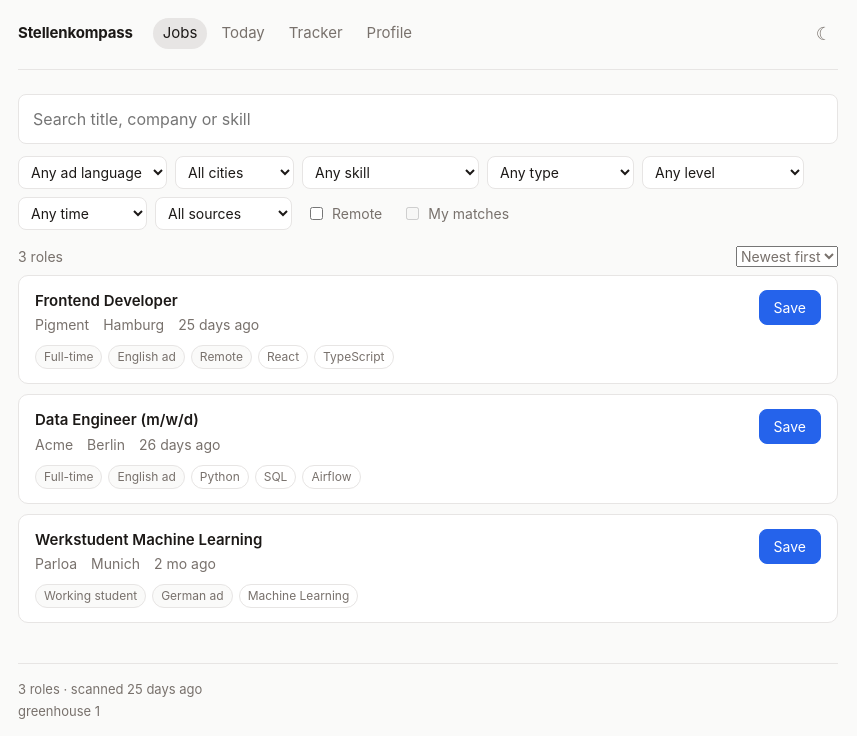
Test case: App › lists, searches and saves roles into the tracker
The width and height of the screenshot is (857, 736).
expect the text "3 roles" is shown: met, box [18,246,63,266]
expect the text "greenhouse 1" is shown: met, box [18,702,100,718]
Type "frontend" into the search field labelled "Search" at point(428, 118), box [18,94,838,144]
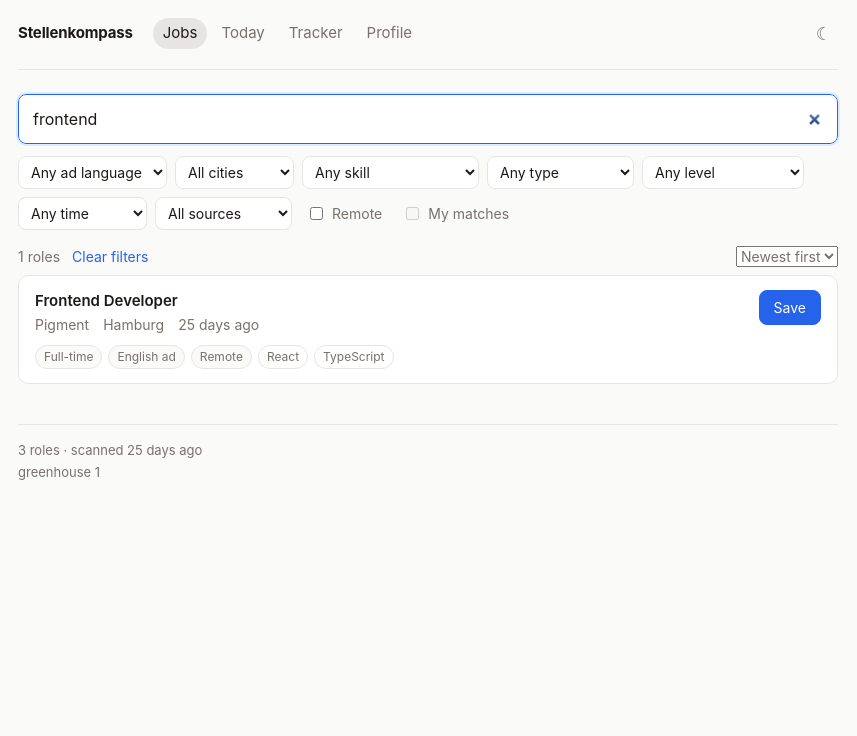
expect the text "1 roles" is shown: met, box [18,246,148,266]
Click the button with aria-label "Save Frontend Developer" at point(790, 307), box [759,290,821,324]
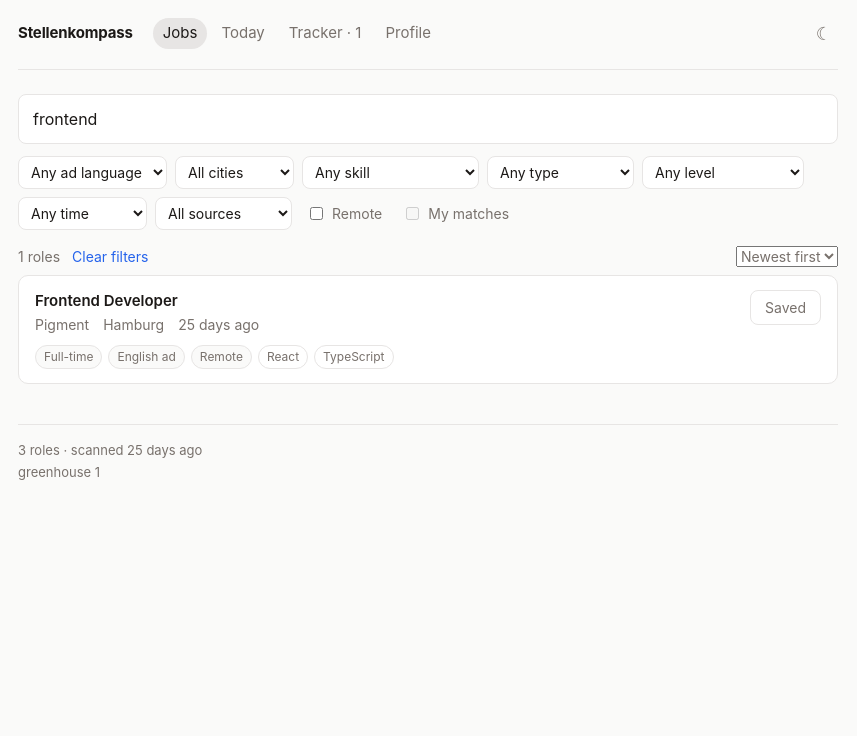
expect the button with aria-label "In tracker: Saved" is disabled: met, box [750,290,821,324]
Click the link "Tracker · 1" at point(325, 32), box [289,23,361,42]
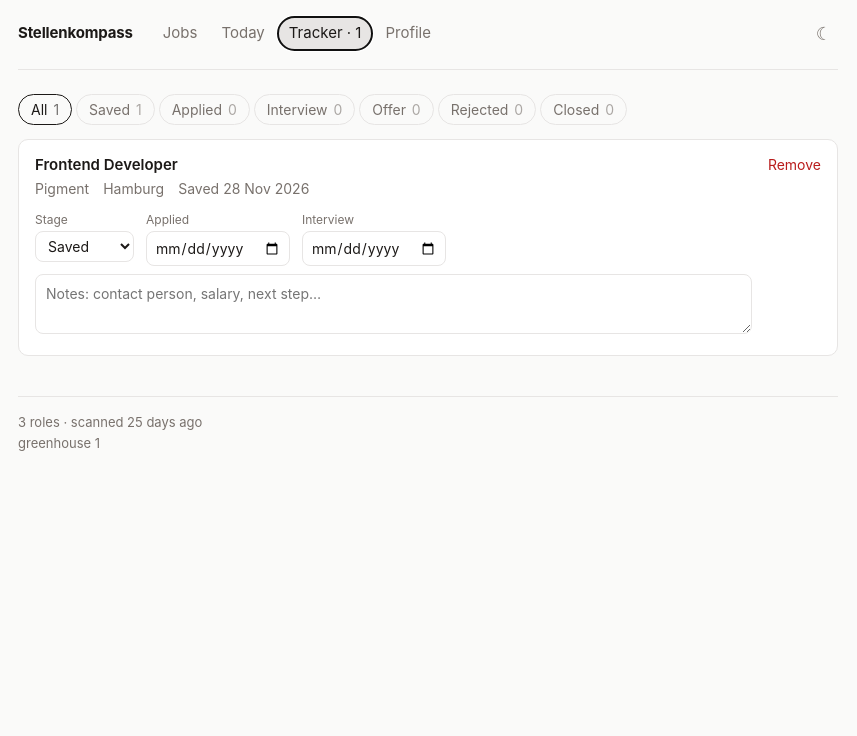
Select "Applied" in the dropdown showing "Saved" at point(84, 246), box [35,231,134,262]
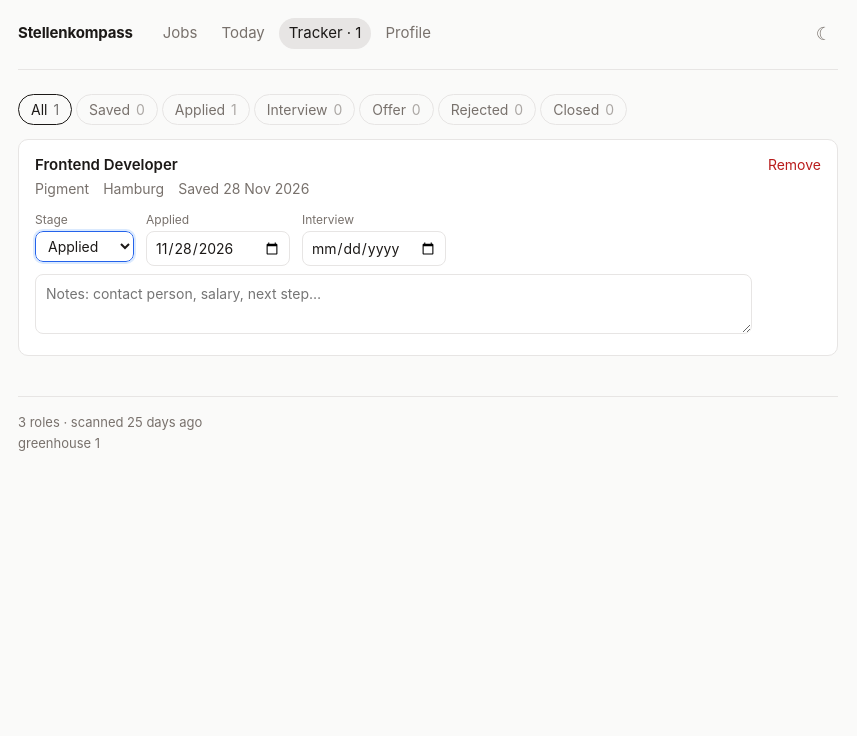
expect the date field labelled "Applied" is not empty: met, box [146,231,290,266]
